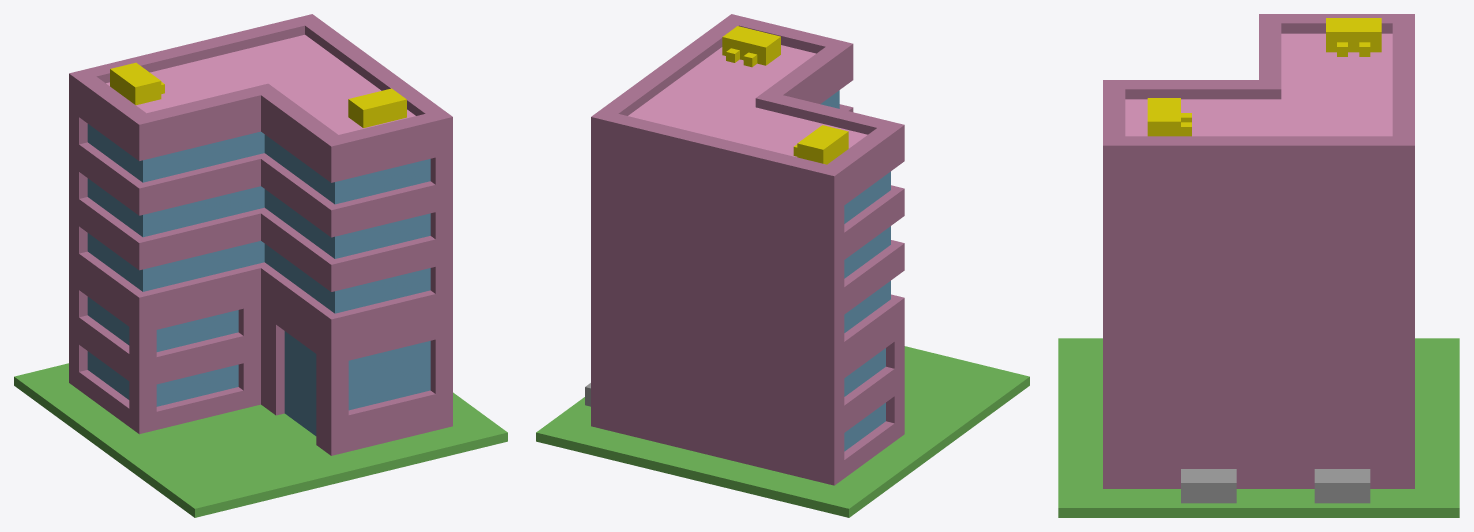
Rendered from buleBldg.fbx.
3 views of the same model, side by side, from view 1: azimuth 30°, elevation 25°; view 2: azimuth 150°, elevation 25°; view 3: azimuth 270°, elevation 25° (orthographic). The views are drawn at different scales.
Visible parts, largest first — view 1: blueBldg1; view 2: blueBldg1; view 3: blueBldg1.
Boxes of the visible parts, x1=… form: blueBldg1: x1=14, y1=14, x2=507, y2=517; blueBldg1: x1=536, y1=14, x2=1029, y2=517; blueBldg1: x1=1058, y1=14, x2=1459, y2=517.
Size of the model in its own units: 298 by 298 by 298.
